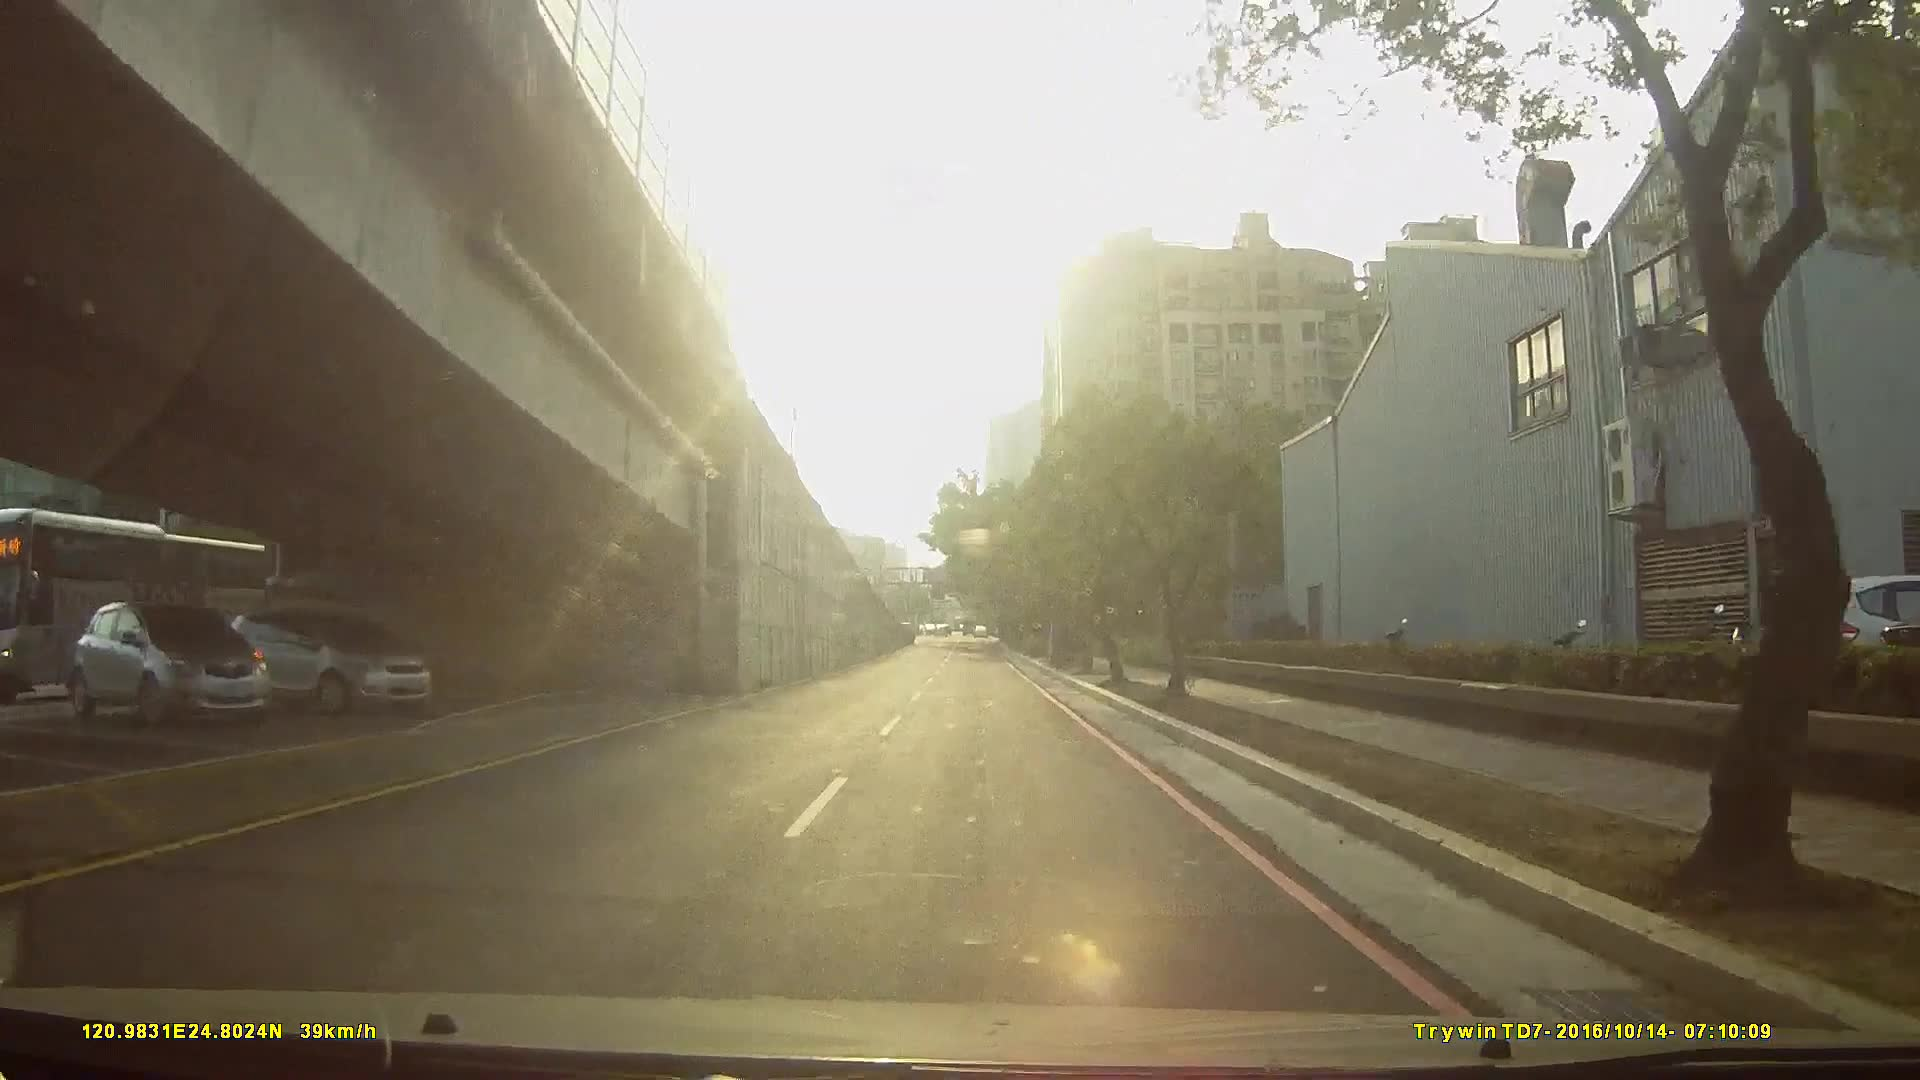vehicle: (1, 502, 280, 707), (57, 597, 276, 731), (199, 607, 446, 721)
